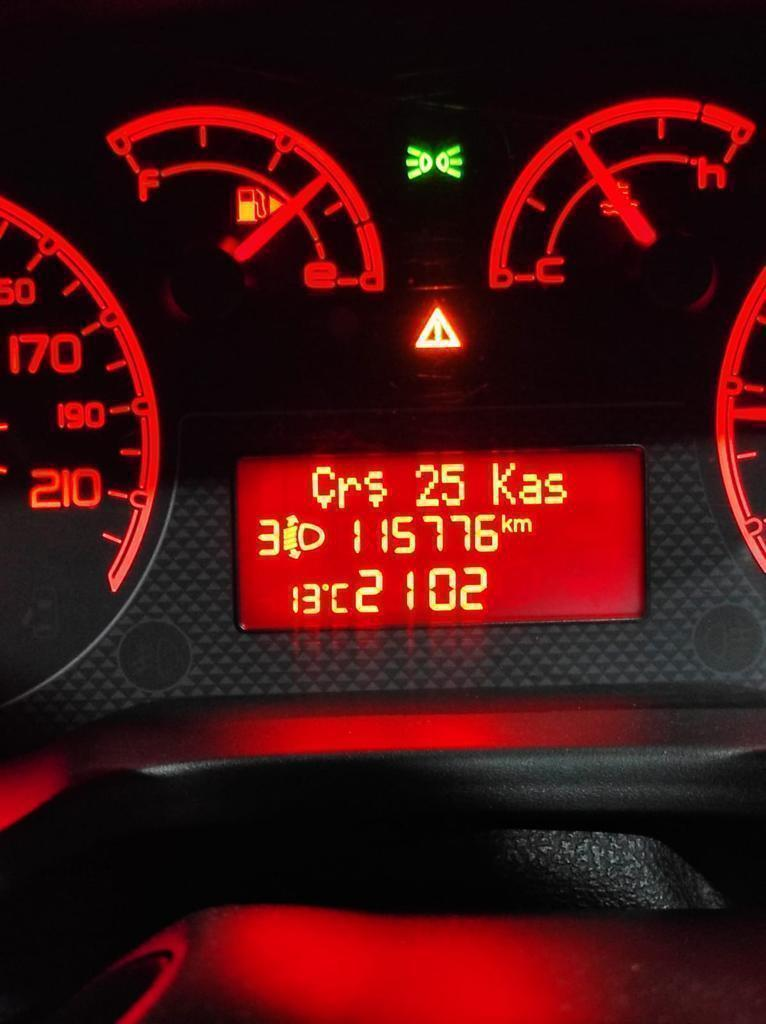0: (428, 566, 456, 611)
1: (405, 570, 415, 610), (379, 518, 389, 554), (352, 518, 362, 553), (291, 585, 299, 614)
2: (354, 568, 384, 612), (460, 566, 487, 610), (414, 463, 439, 507)
3: (257, 518, 281, 556), (301, 583, 320, 615)
5: (440, 463, 464, 506), (391, 515, 416, 554)
6: (474, 513, 498, 552)
7: (421, 515, 444, 553), (448, 514, 471, 552)
X: (310, 465, 336, 510), (491, 461, 517, 505), (362, 469, 388, 508), (518, 473, 543, 505), (543, 472, 568, 504), (338, 476, 362, 509), (329, 582, 349, 615), (512, 518, 532, 533), (500, 513, 512, 533)
odometer: (225, 437, 651, 635)
